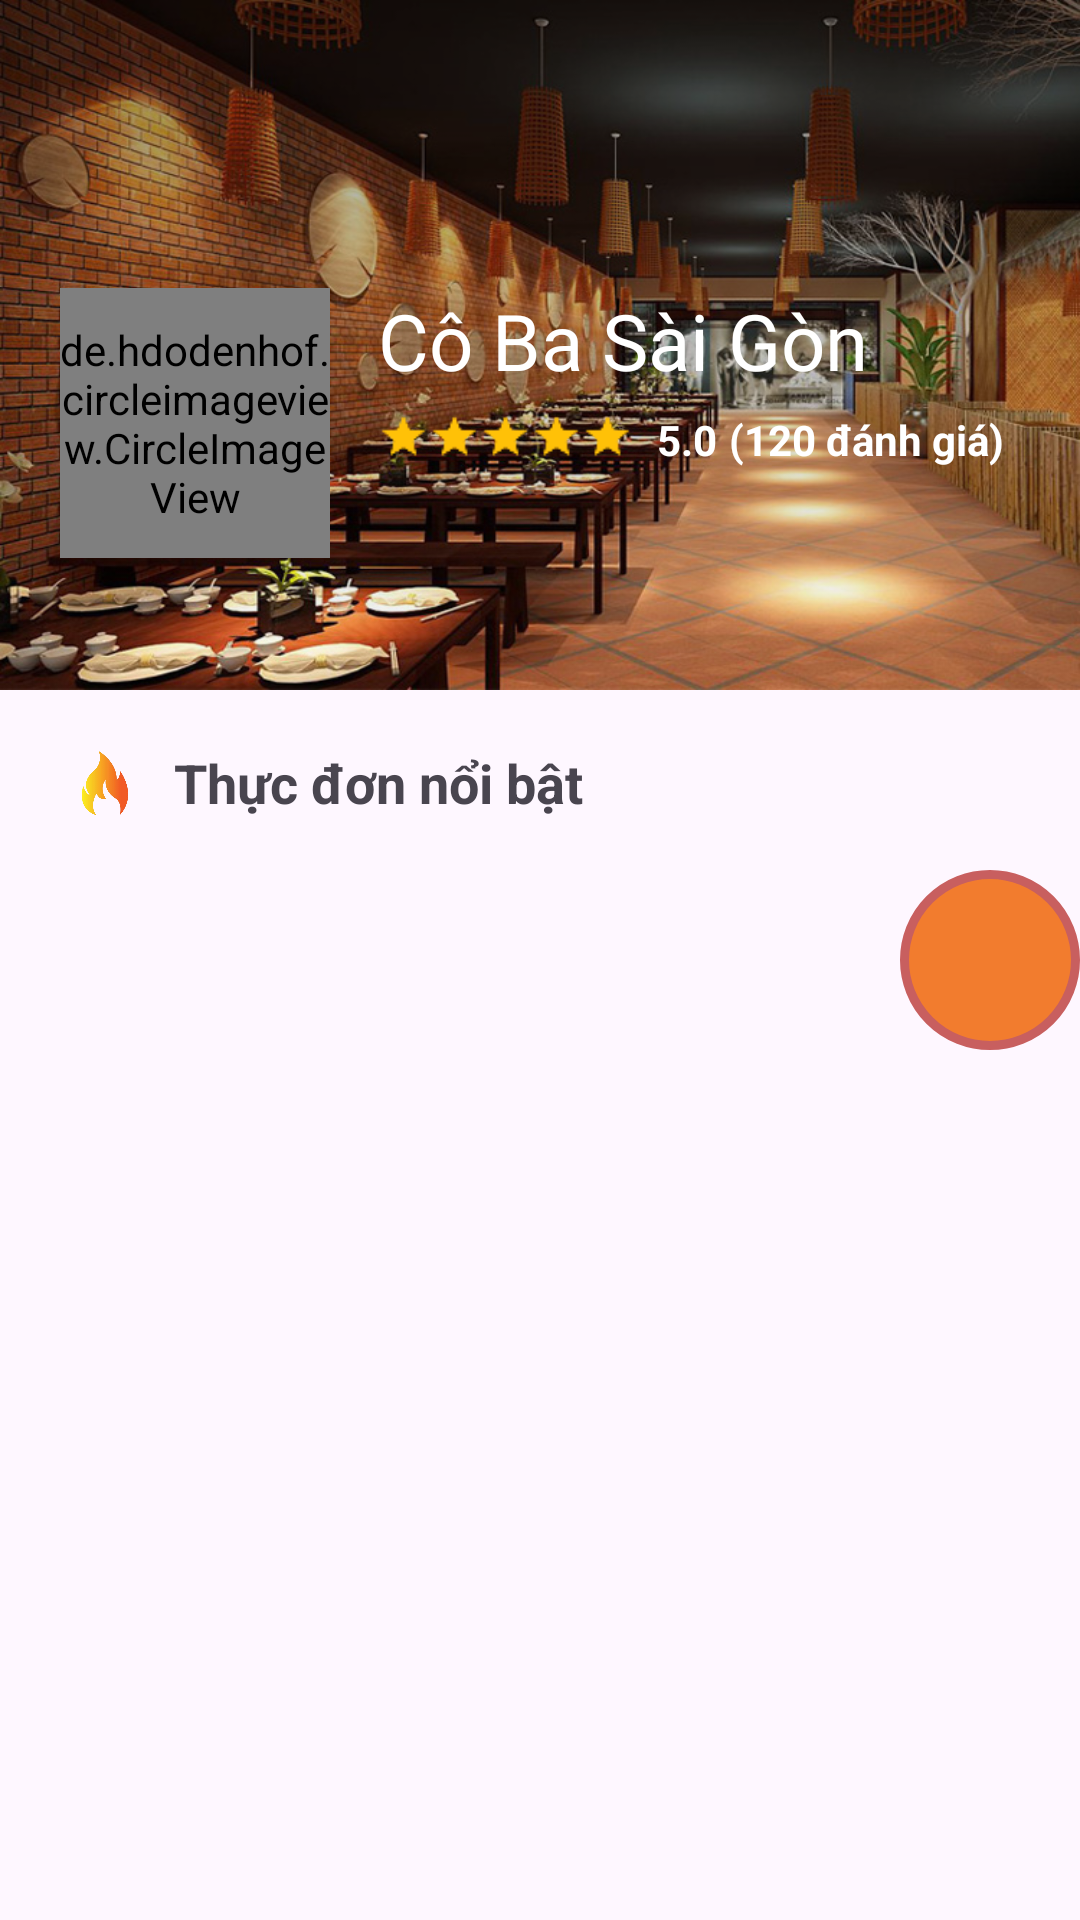

Where to tap for icons on this 1080*1920 app screen, as (x=x, y=y):
home ngoisao danhgia: (x=403, y=436), (x=454, y=436), (x=505, y=436), (x=556, y=436), (x=607, y=436)
hot: (x=105, y=783)
